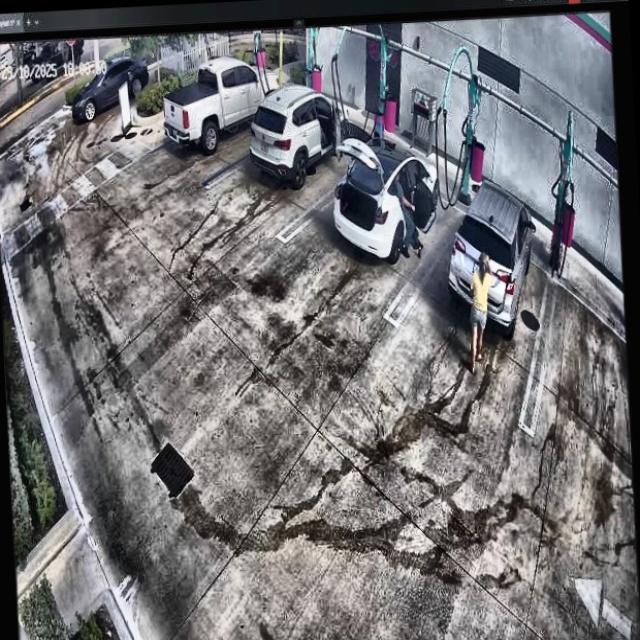Car: (446, 181, 537, 342), (331, 132, 439, 262), (161, 55, 285, 157), (249, 86, 353, 191)
